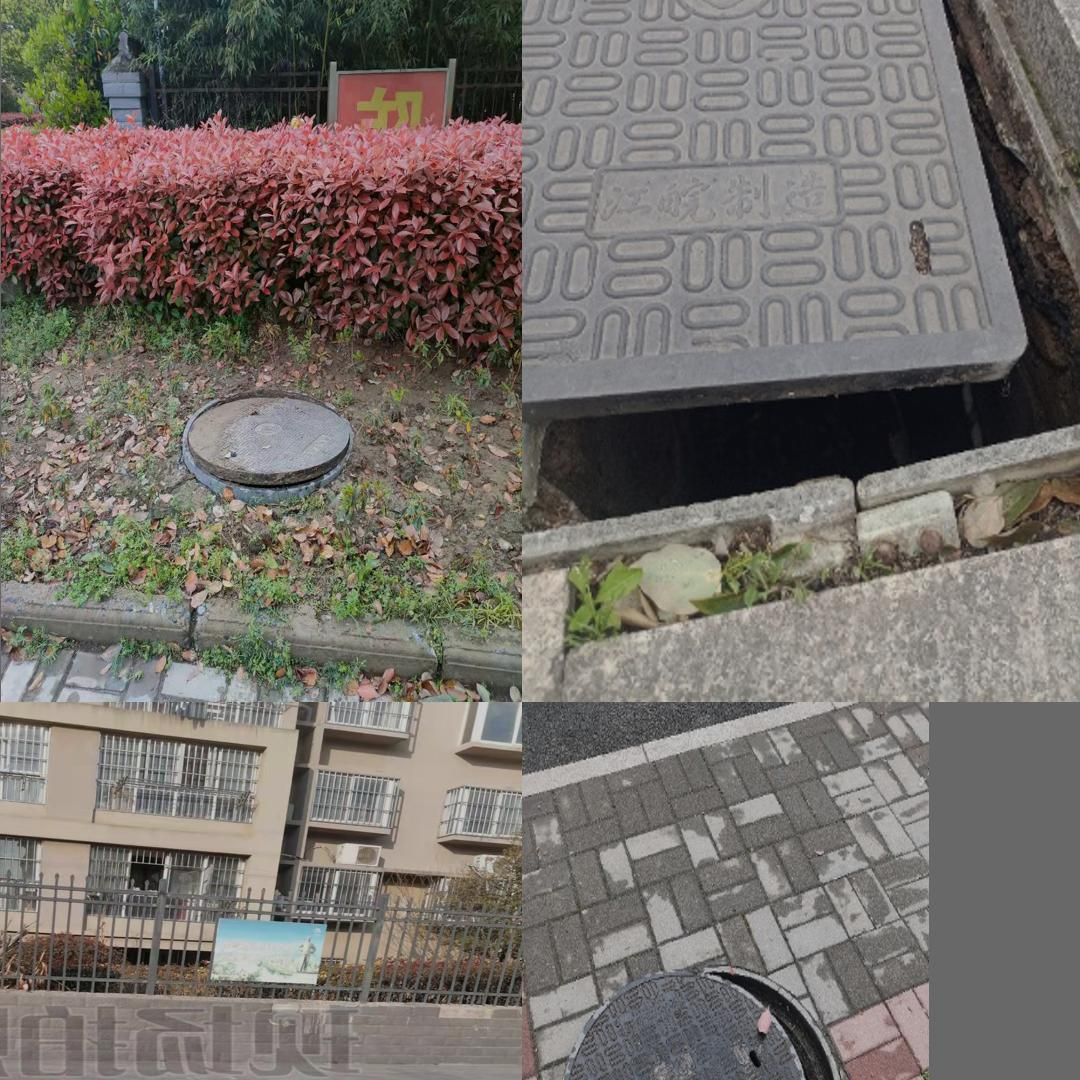uncovered: (523, 0, 1080, 568), (551, 972, 856, 1080), (176, 370, 354, 488)
